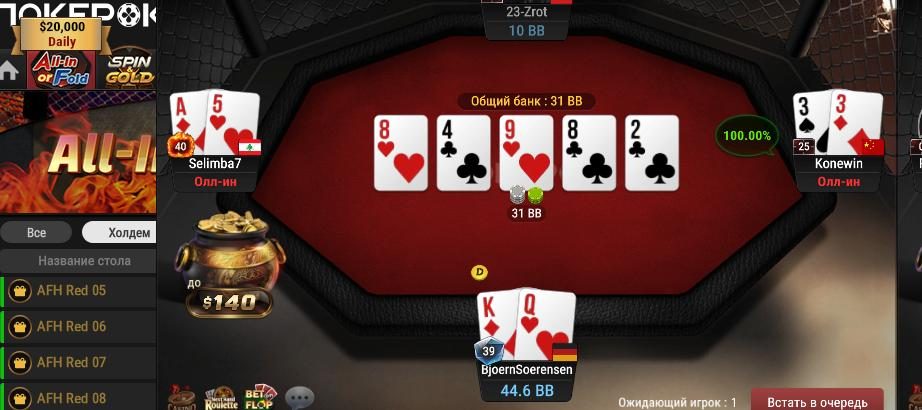2c: (626, 116, 679, 189)
3d: (829, 90, 882, 155)
3s: (793, 91, 829, 155)
4c: (438, 116, 491, 189)
5h: (206, 87, 260, 155)
8c: (563, 116, 615, 191)
8h: (375, 117, 428, 191)
9h: (501, 115, 551, 191)
Ad: (170, 89, 207, 155)
Kd: (477, 290, 517, 363)
Qh: (517, 287, 575, 361)
